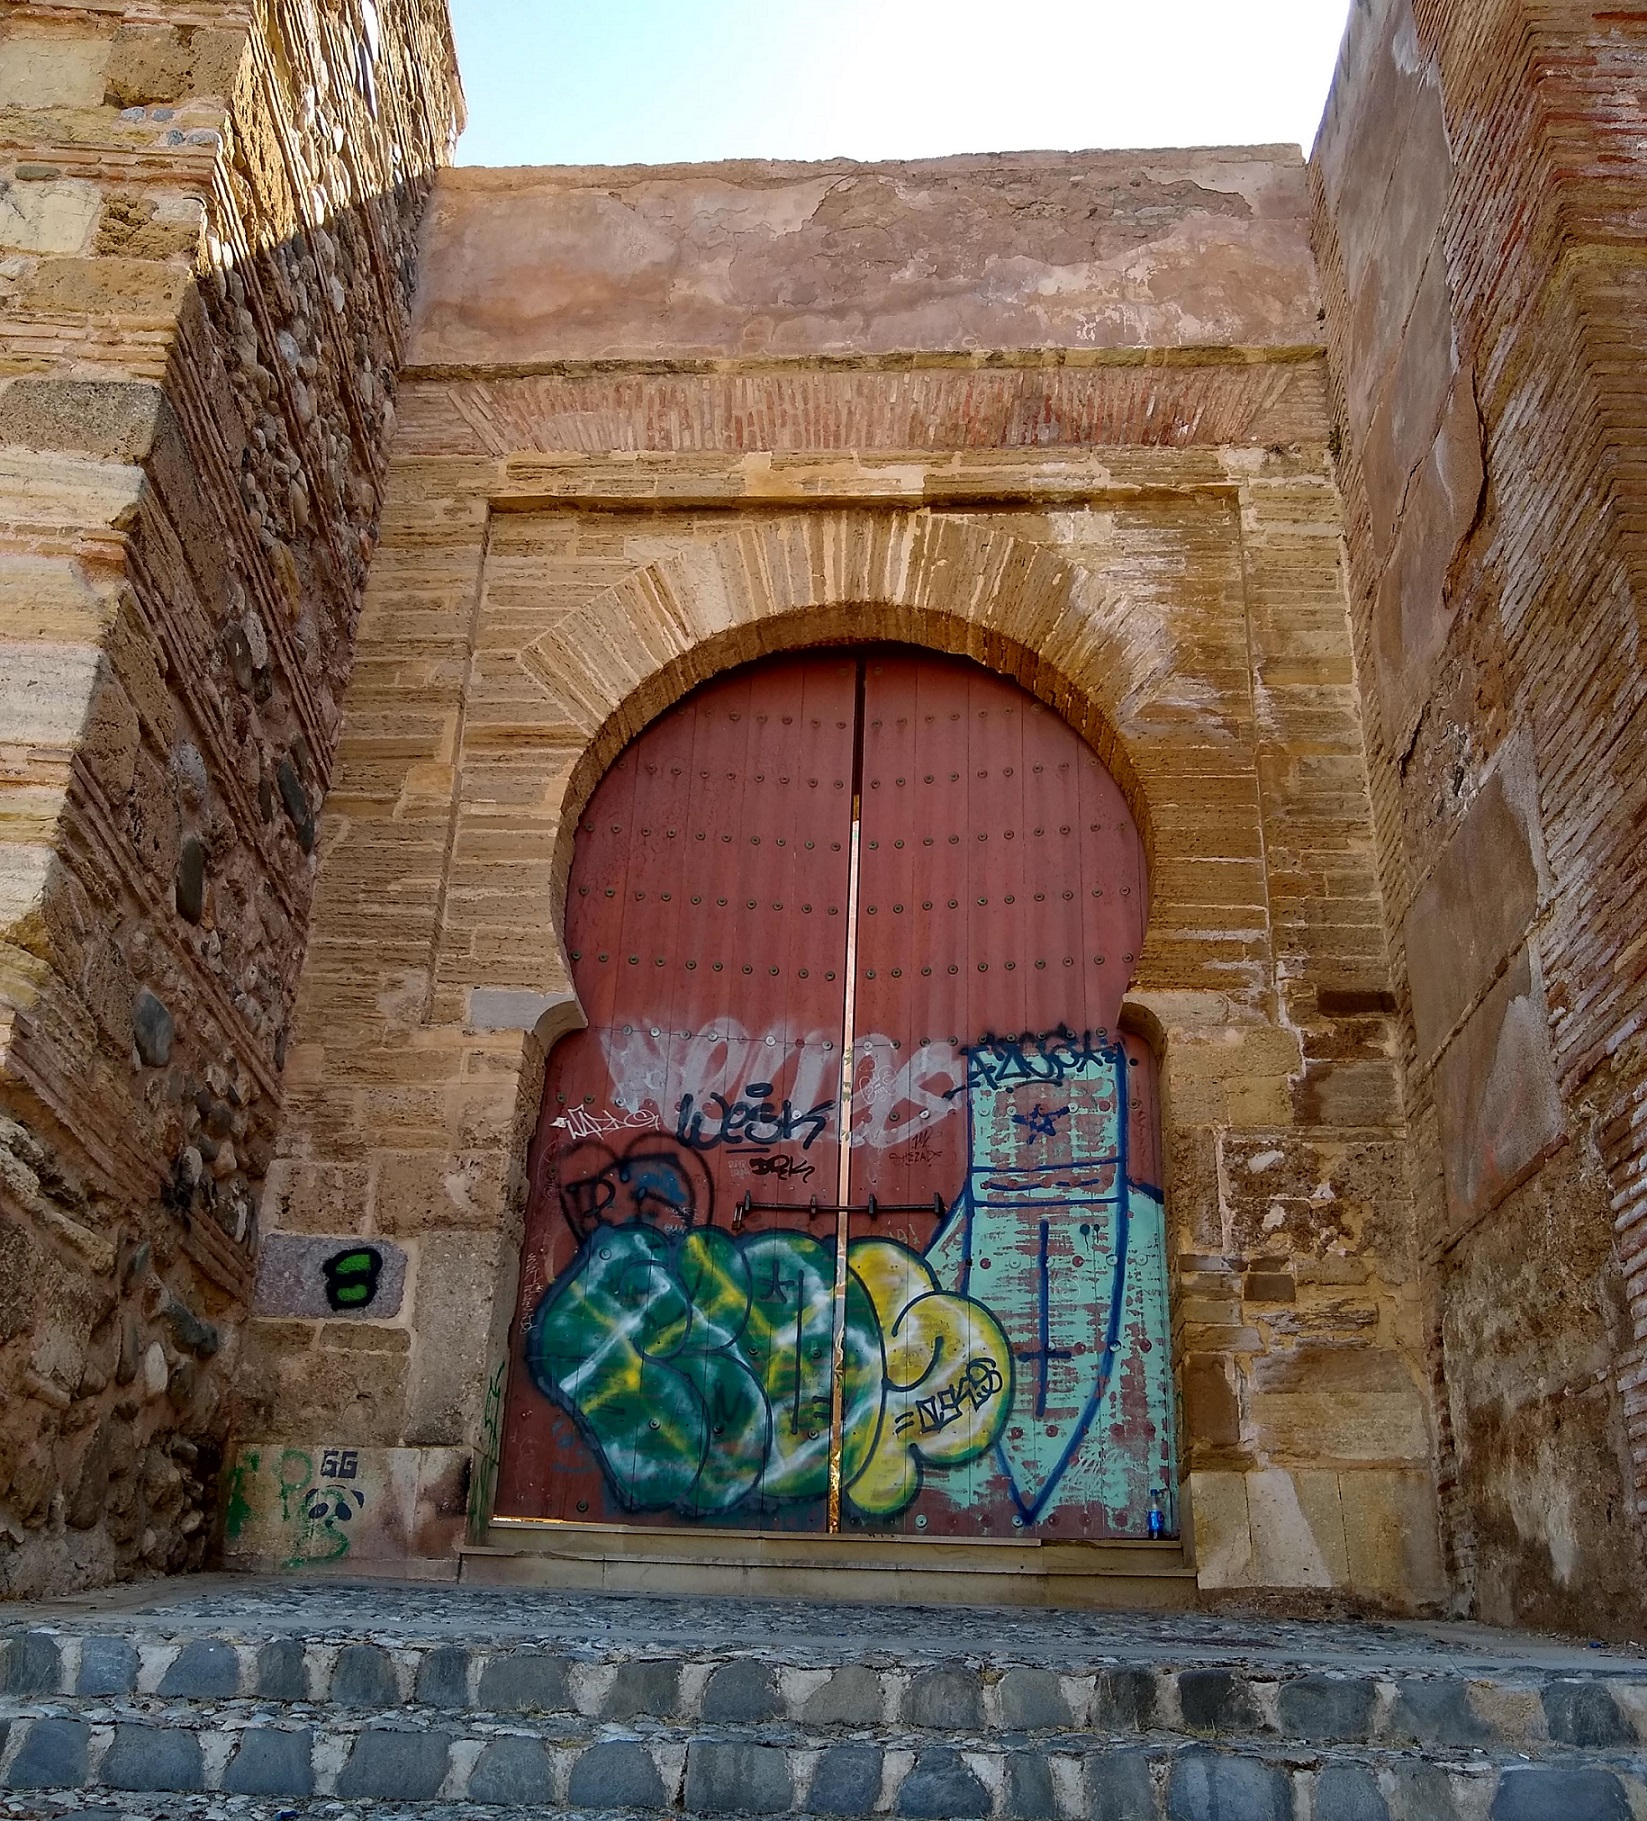arco-herradura: (492, 568, 1222, 1102)
